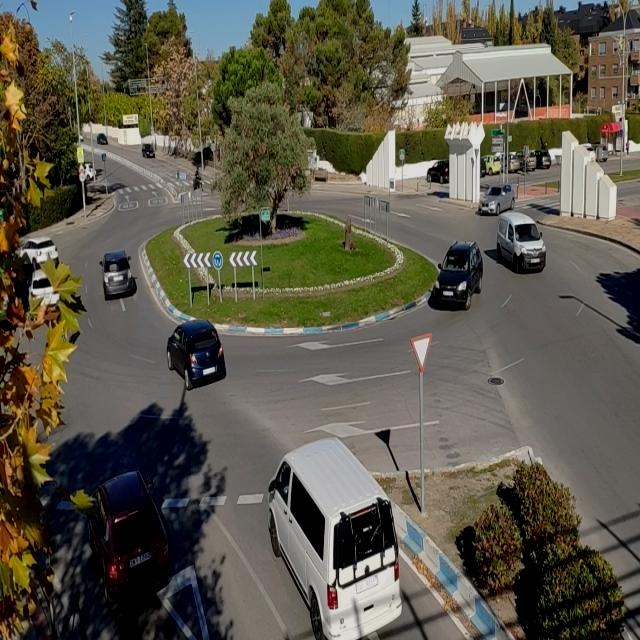Car: (86, 470, 172, 605), (165, 320, 227, 390), (434, 241, 484, 310), (98, 250, 135, 300), (18, 237, 58, 270), (478, 184, 515, 216), (427, 160, 449, 184), (141, 144, 156, 158), (97, 134, 108, 144)
Van: (264, 434, 404, 640), (498, 210, 546, 274)
